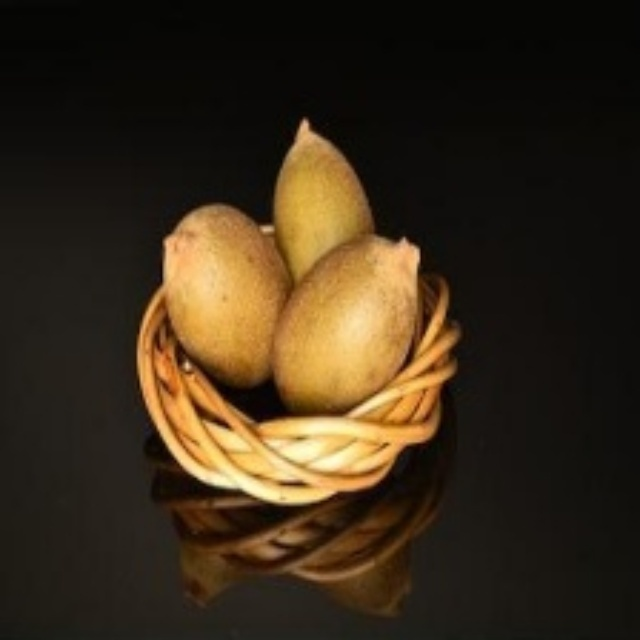kiwi: (267, 241, 419, 412), (166, 212, 286, 386), (264, 132, 370, 276)
